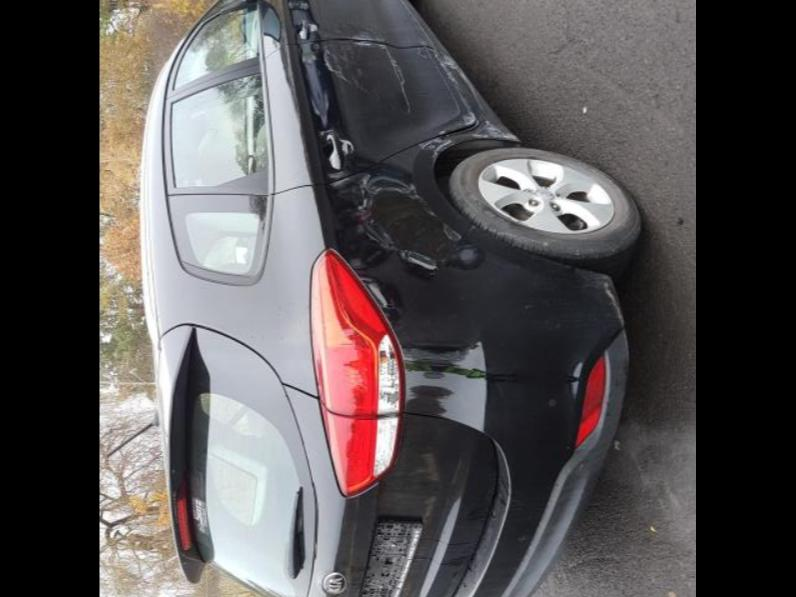Dent: (342, 156, 481, 276), (422, 44, 514, 140), (320, 20, 411, 112), (371, 0, 412, 34)
Missing part: (360, 522, 420, 597)
Scratch: (354, 170, 468, 276), (358, 172, 476, 274), (418, 52, 520, 160), (426, 48, 514, 138), (350, 38, 411, 116), (380, 42, 418, 124), (408, 119, 454, 167), (604, 274, 630, 352), (322, 44, 352, 84), (348, 30, 390, 52), (352, 32, 388, 42)
